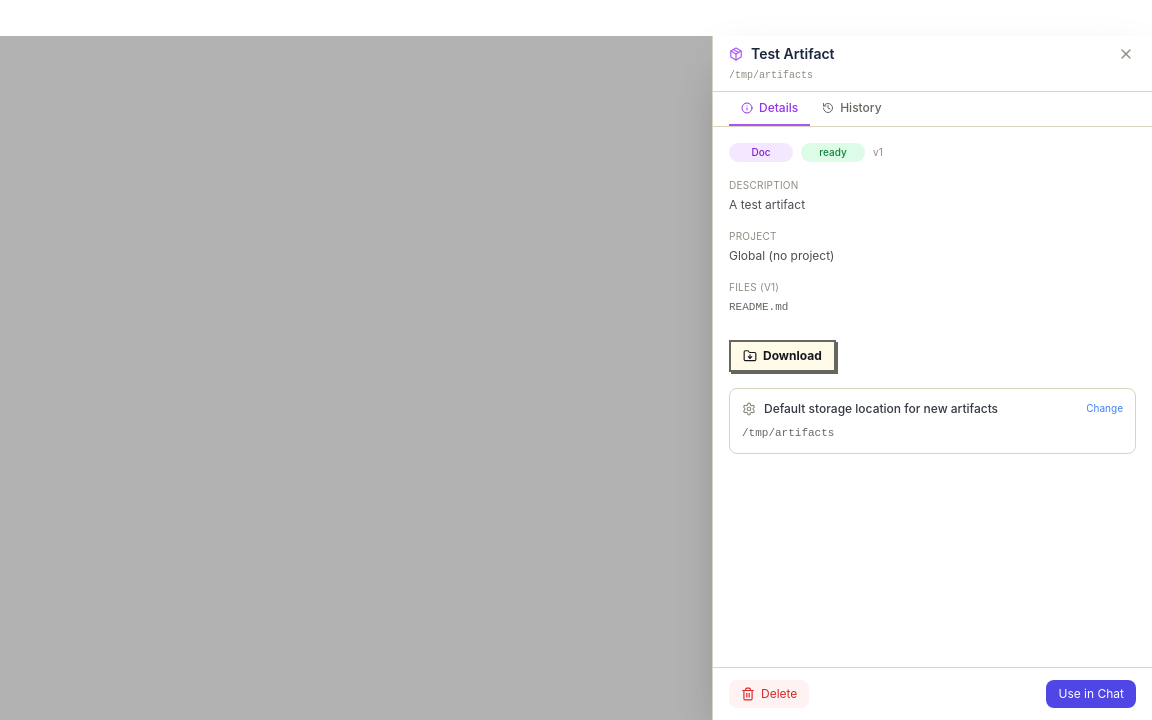
Test: ArtifactPanel › shows confirm flow when Delete is clicked
Expected: the heading "Test Artifact" is shown, [751,44,834,64]
Click the button "Delete": (769, 694) [729,680,809,708]
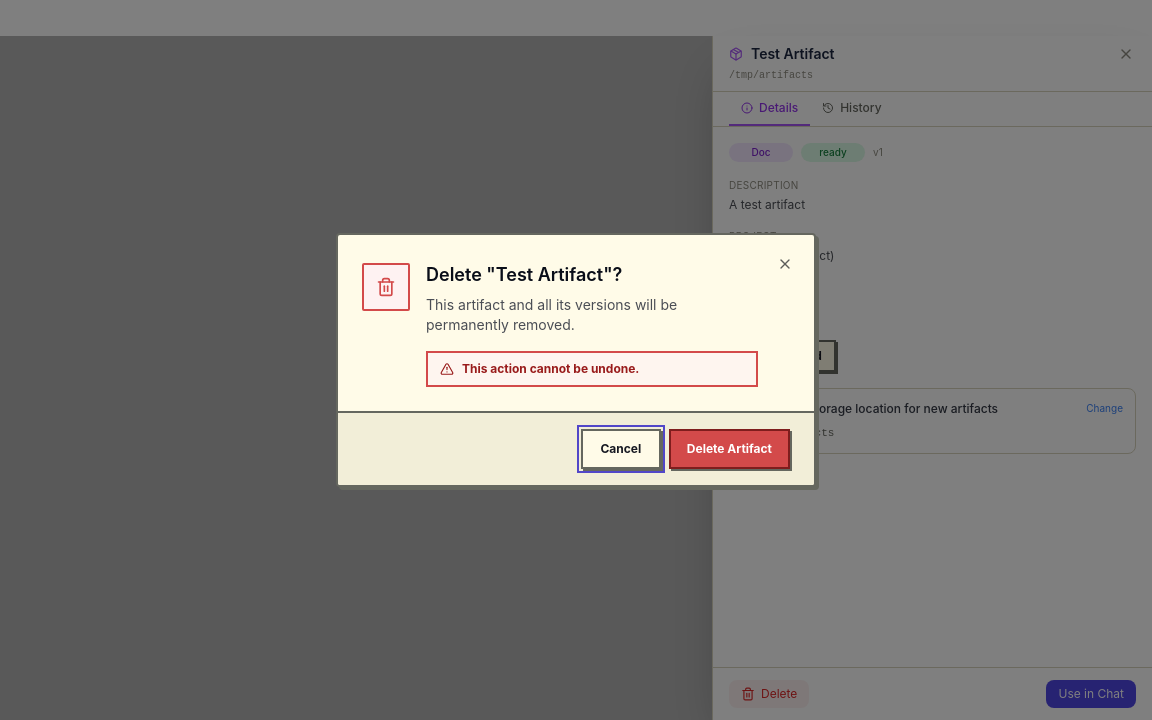
Expected: the heading "Delete \"Test Artifact\"?" is shown, [426,264,622,285]
Expected: the button "Delete Artifact" is shown, [669,429,790,469]
